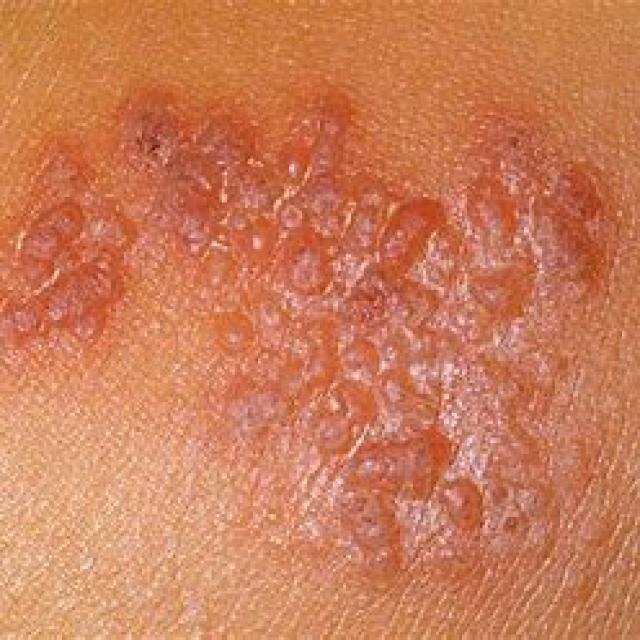Shingles: (0, 80, 620, 582)
